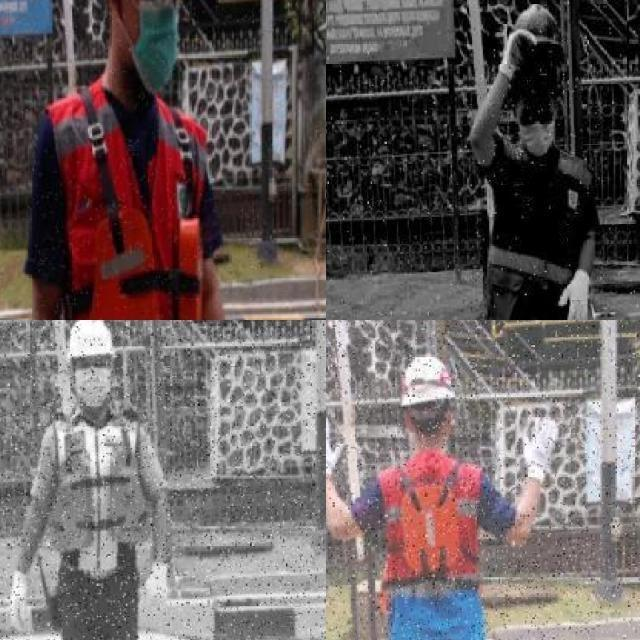apron: (519, 412, 561, 486), (497, 28, 540, 84), (558, 270, 592, 320), (140, 562, 174, 610), (4, 570, 29, 634), (326, 412, 347, 479)
